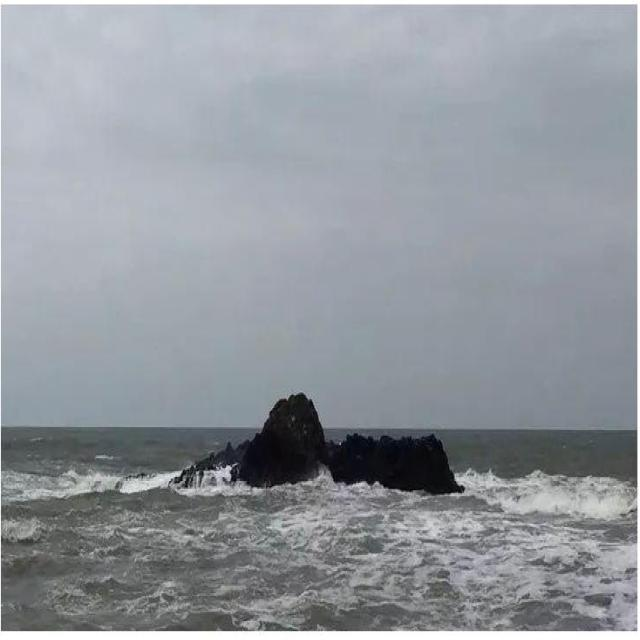reef: (184, 377, 465, 498)
